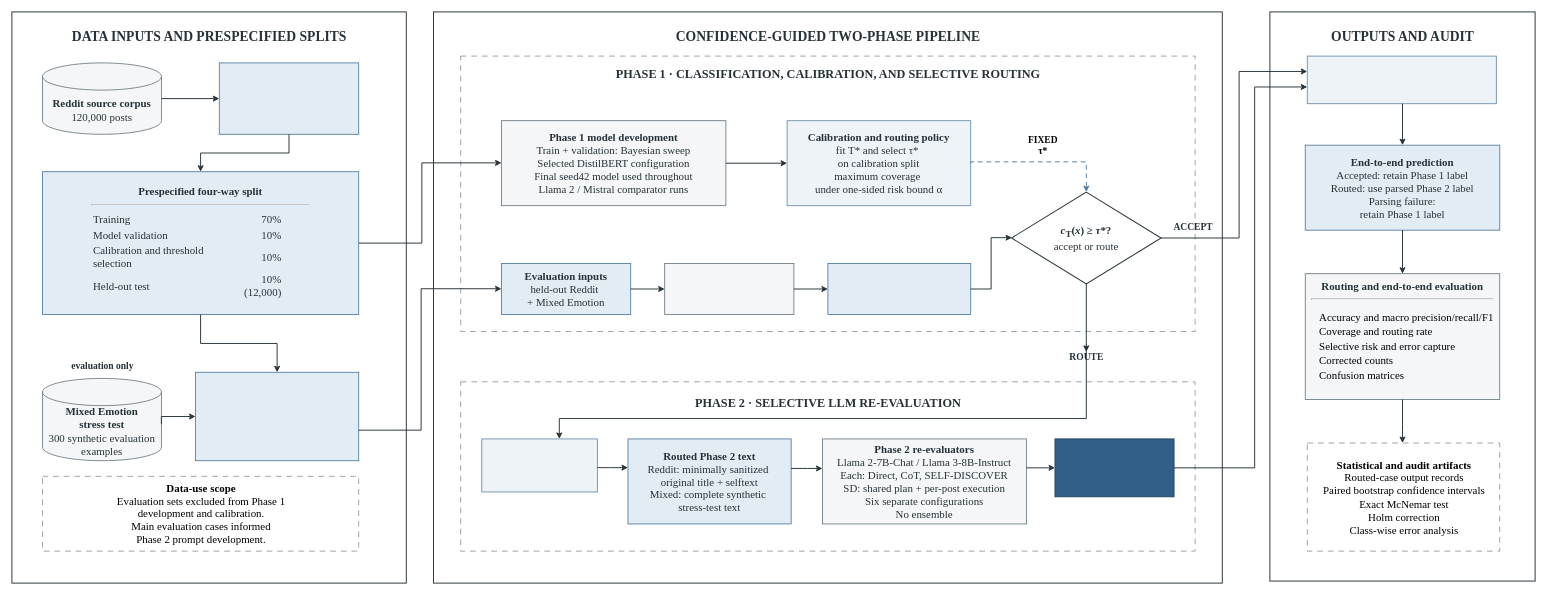
This 1548x596 diagram has some shape labels left out. The shapes that lost their labels are listed below. From the top down, each one's centre as x and y in pixels, then its label:
At (289,98): "Text preprocessing title + selftext".
At (1401,79): "Final label selection accepted Phase 1 or routed Phase 2".
At (729,289): "Frozen Phase 1 inference DistilBERT logits".
At (899,289): "Calibrated confidence c T ( x ) = calibrated maximum softmax probability".
At (277,416): "Evaluation input package held-out Reddit test + Mixed Emotion stress test".
At (539,465): "ROUTE low-confidence case".
At (1114,467): "Parse Phase 2 label If parsing fails, retain Phase 1 label".
